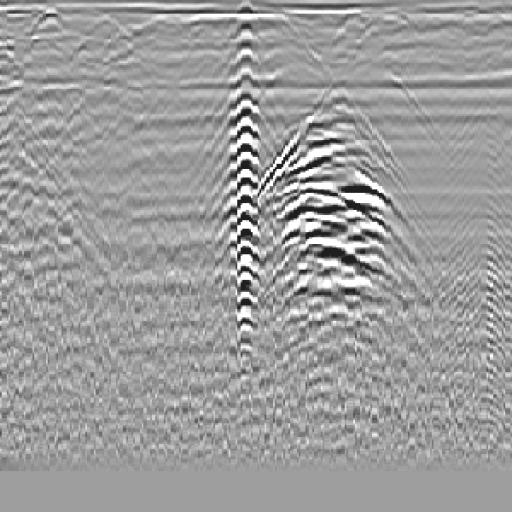metalic: (254, 66, 433, 390)
